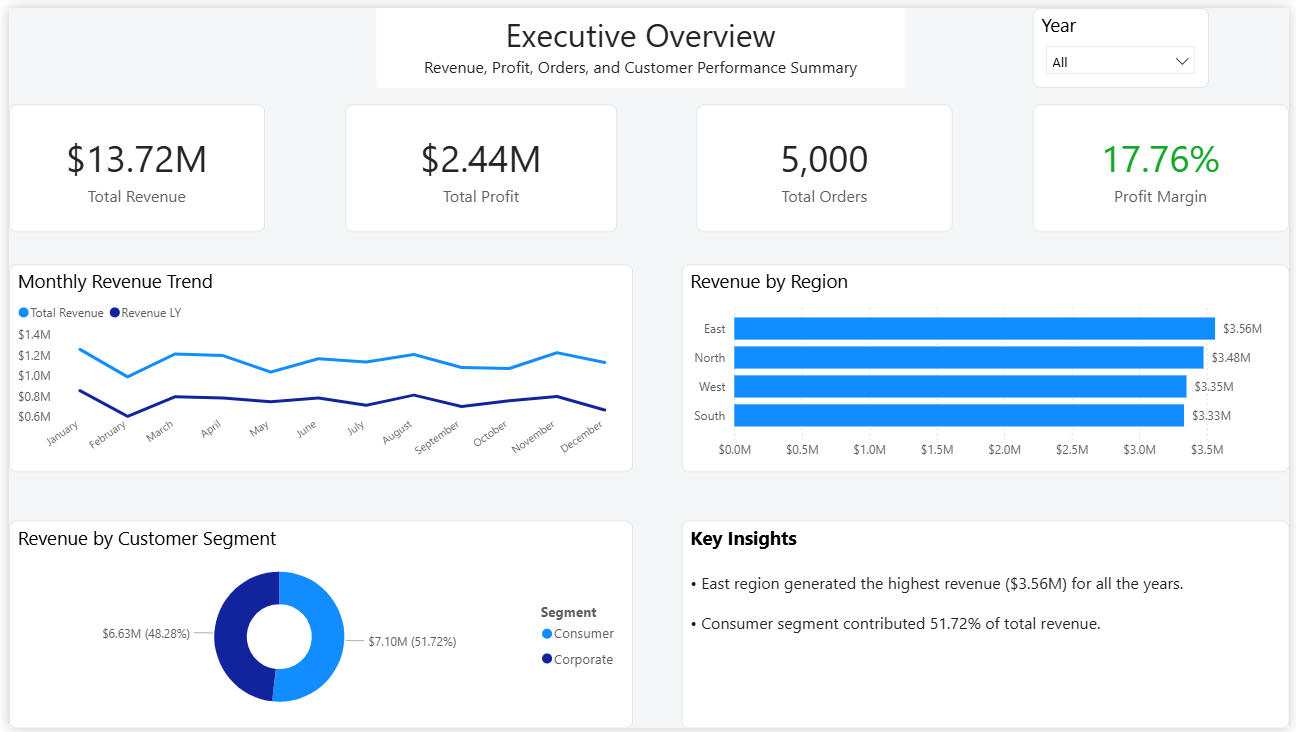

What the dashboard file says about the page in this screenshot:
{"tool":"powerbi","page":{"name":"Executive Overview","canvas":[1280,720],"ordinal":0},"visuals":[{"type":"card","title":"Total Revenue","fields":{"Values":["_TableMeasures.Total Revenue"]},"box":[0,96,256,128],"z":0},{"type":"lineChart","title":"Monthly Revenue Trend","fields":{"Category":["DimDate.Date.Variation.Date Hierarchy.Month"],"Y":["_TableMeasures.Total Revenue","_TableMeasures.Revenue LY"]},"box":[0,256,624,208],"z":1000},{"type":"barChart","title":"Revenue by Region","fields":{"Category":["FactSales.Region"],"Y":["_TableMeasures.Total Revenue"]},"box":[672,256,608,208],"z":2000},{"type":"donutChart","title":"Revenue by Customer Segment","fields":{"Category":["DimCustomers.Segment"],"Y":["_TableMeasures.Total Revenue"]},"box":[0,512,624,208],"z":3000},{"type":"card","title":"Total Profit","fields":{"Values":["_TableMeasures.Total Profit"]},"box":[336,96,272,128],"z":4000},{"type":"card","title":"Total Orders","fields":{"Values":["_TableMeasures.Total Orders"]},"box":[688,96,256,128],"z":5000},{"type":"card","title":"Profit Margin %","fields":{"Values":["_TableMeasures.Profit Margin %"]},"box":[1024,96,256,128],"z":6000},{"type":"slicer","title":"Year","fields":{"Values":["DimCustomers.Segment"]},"box":[1024,0,176,80],"z":7000},{"type":"textbox","title":"Key Insights","box":[672,512,608,208],"z":8000},{"type":"textbox","box":[368,0,528,80],"z":9000}]}

Visuals, with their boxes in screenshot pixels (x1, y1, x2, y2), scaled from the page's 1280x720 canvas onto the 1296x732 screenshot:
"Total Revenue" card: (x1=0, y1=98, x2=259, y2=228)
"Monthly Revenue Trend" lineChart: (x1=0, y1=260, x2=632, y2=472)
"Revenue by Region" barChart: (x1=680, y1=260, x2=1295, y2=472)
"Revenue by Customer Segment" donutChart: (x1=0, y1=521, x2=632, y2=731)
"Total Profit" card: (x1=340, y1=98, x2=616, y2=228)
"Total Orders" card: (x1=697, y1=98, x2=956, y2=228)
"Profit Margin %" card: (x1=1037, y1=98, x2=1295, y2=228)
"Year" slicer: (x1=1037, y1=0, x2=1215, y2=81)
"Key Insights" textbox: (x1=680, y1=521, x2=1295, y2=731)
textbox: (x1=373, y1=0, x2=907, y2=81)
